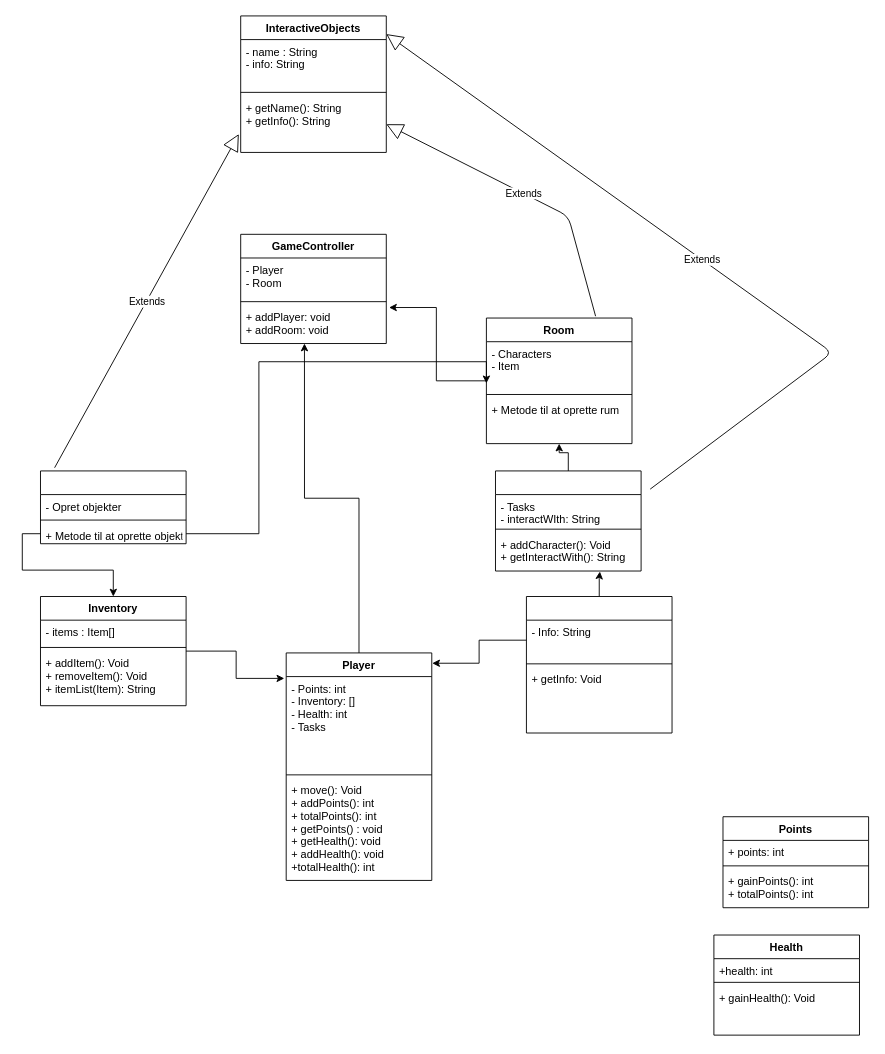
Image size: 885x1054. Some labels were removed from this diagram. Each missing label, with the box of its shape:
Characters: (495, 470, 641, 571)
Item: (40, 470, 186, 544)
Tasks: (526, 596, 672, 733)
